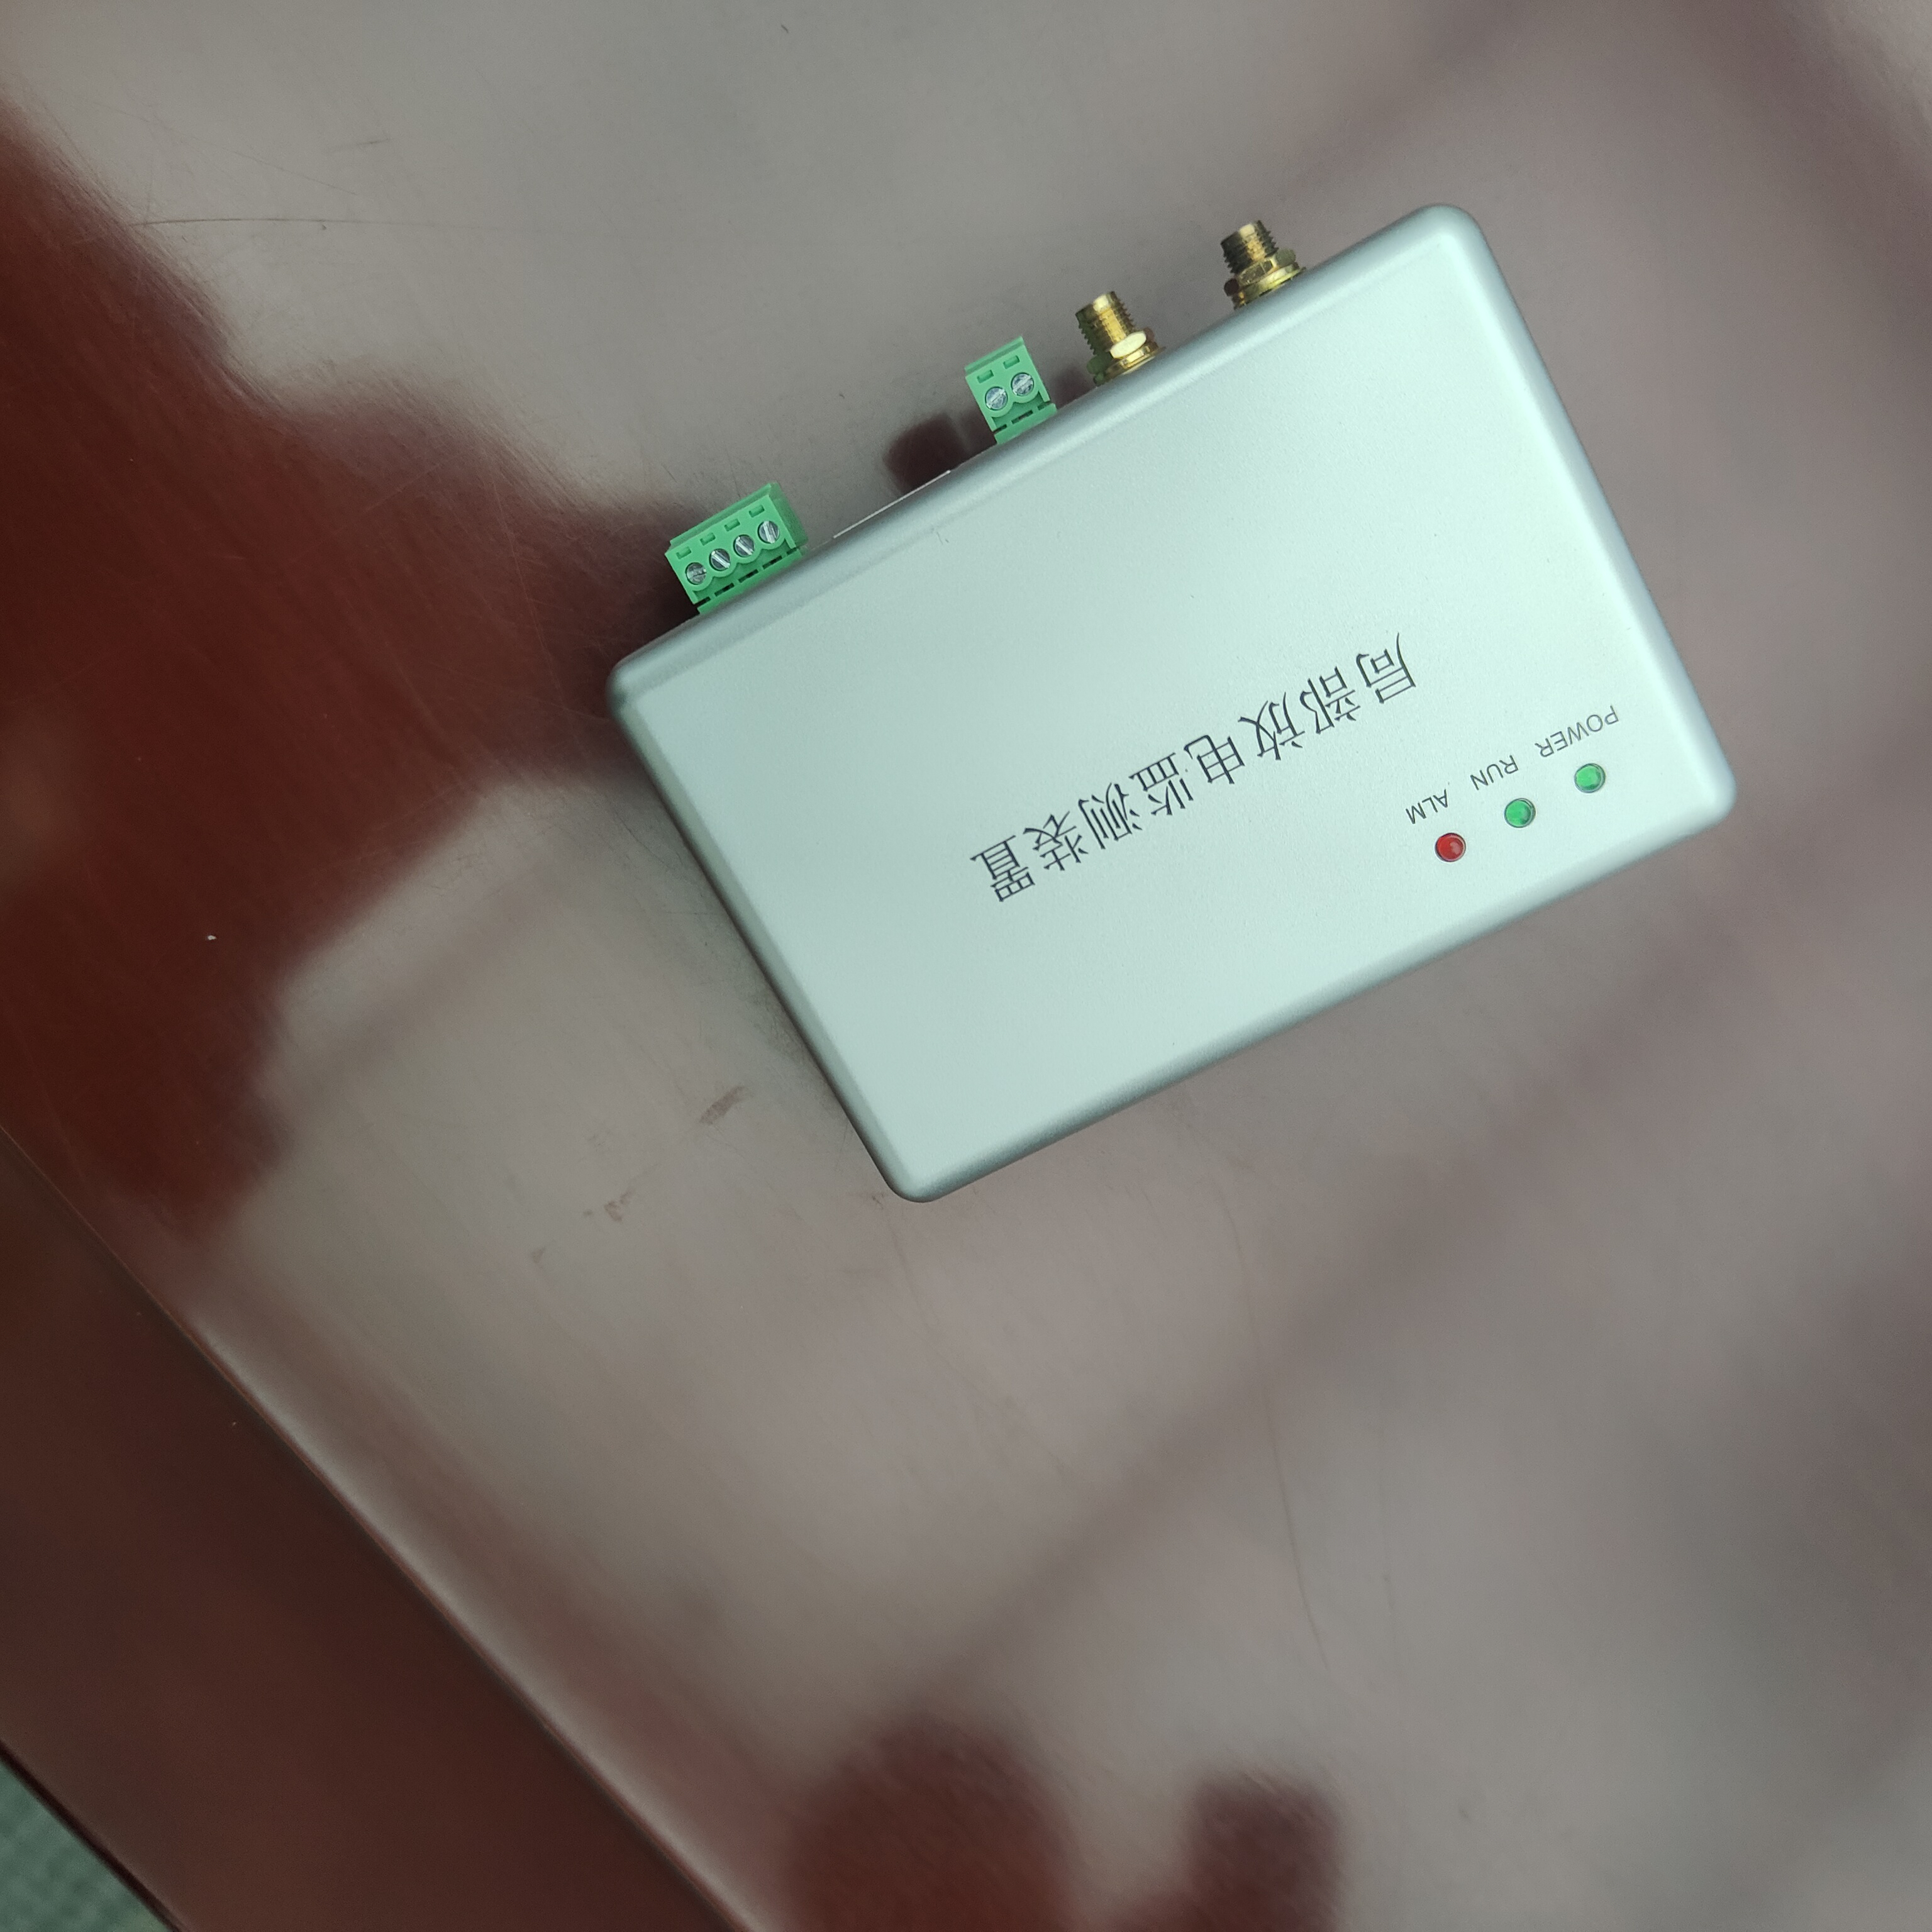jbfdjc: (591, 188, 1773, 1184)
